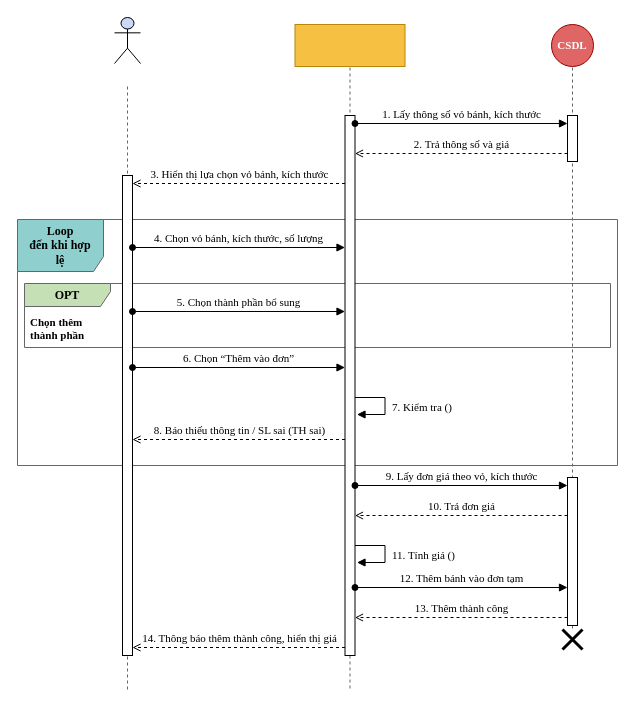
The diagram is 635 pixels wide and 709 high, and some of its shapes have lost their labels. The shapes that lost their labels are listed below. From the top down, each one's centre as x and y in pixels, then its label:
At (127,40): "Khách hàng".
At (349,45): "HỆ THỐNG".
